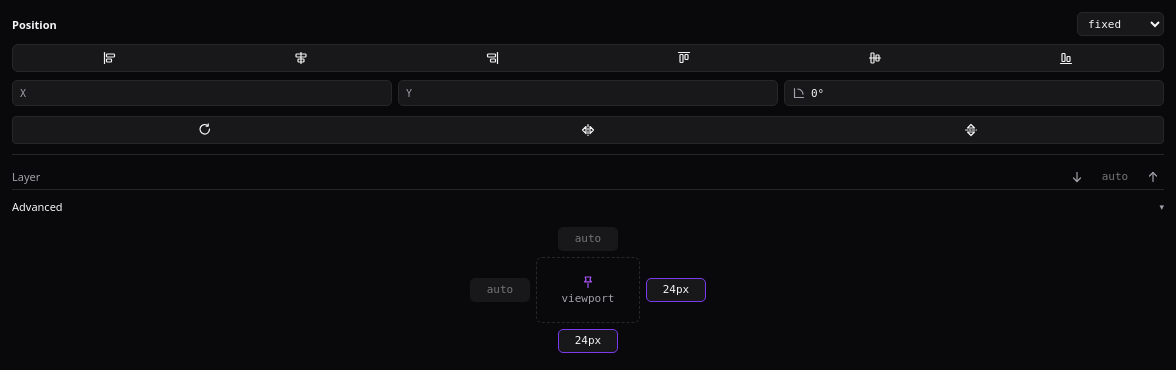
Scenario: Position — Advanced section › summarises the authored offsets while collapsed
The width and height of the screenshot is (1176, 370).
Click the button "Advanced ▾" at (37, 206), box [12,190,1164,222]
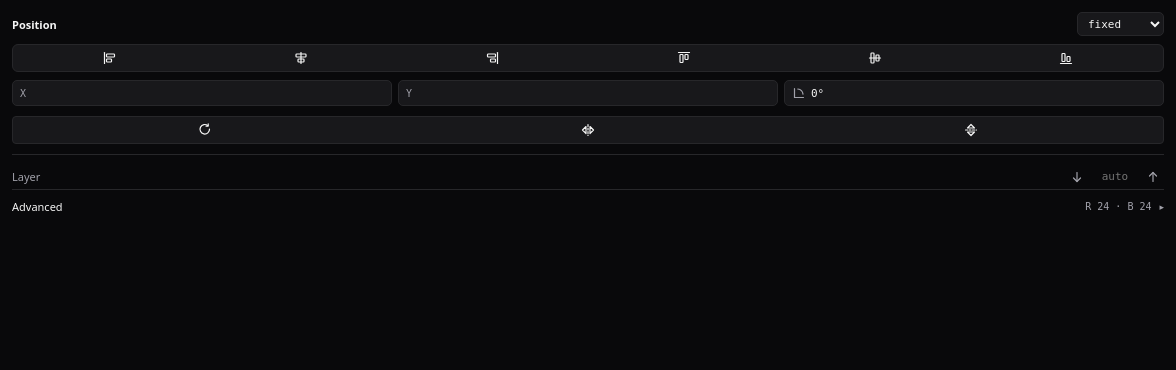
Expected: the button "Advanced R 24 · B 24 ▸" is shown, [12,190,1164,222]
